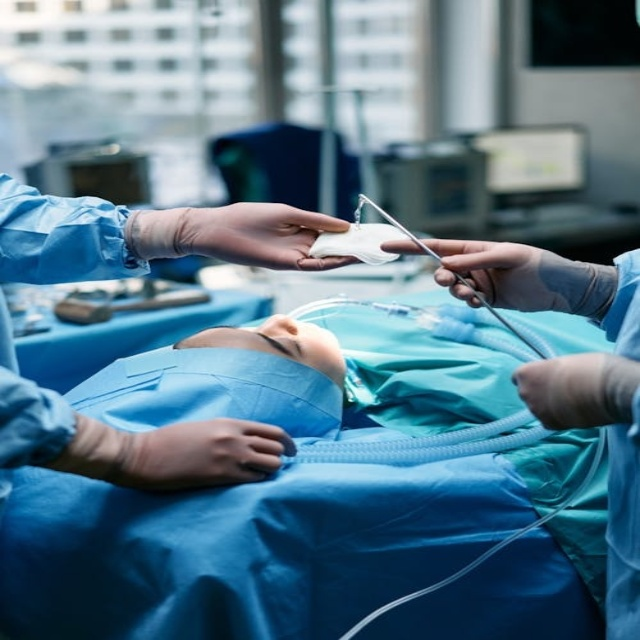Guantes: (381, 228, 604, 318), (125, 193, 362, 270), (61, 411, 297, 485), (508, 342, 634, 422)
